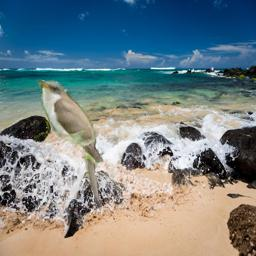Cuckoo: (32, 76, 106, 213)
